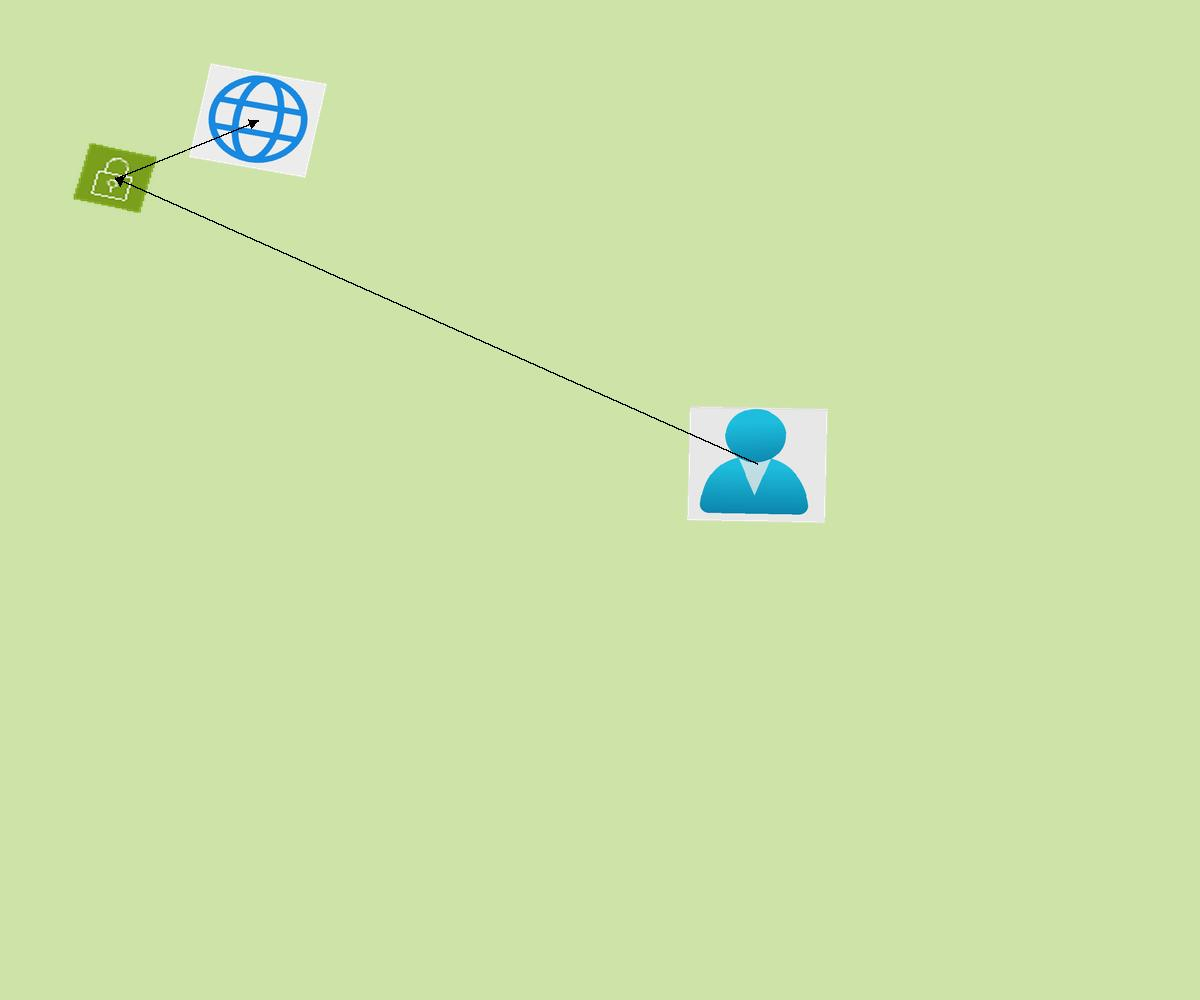AWS-Public-subnet: (72, 142, 158, 214)
Azure_http: (189, 63, 327, 178)
Azure_users: (687, 406, 828, 523)
